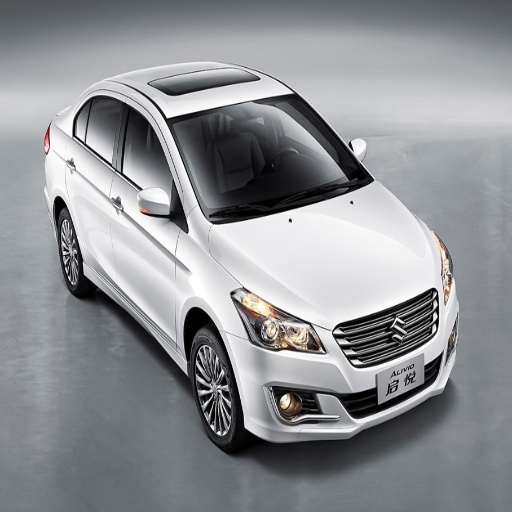front_bumper: (224, 325, 450, 441)
front_right_door: (112, 96, 180, 342)
front_right_light: (232, 289, 324, 351)
hood: (211, 184, 449, 339)
